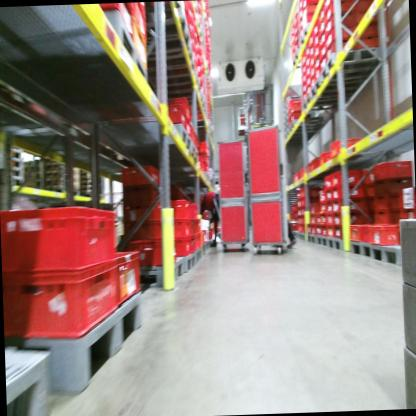pallet: (31, 290, 147, 398), (7, 344, 55, 416), (310, 64, 380, 98), (319, 45, 379, 81), (143, 15, 194, 57), (143, 256, 184, 292), (368, 241, 406, 272), (302, 91, 349, 116), (145, 1, 187, 26), (178, 249, 198, 278), (352, 239, 371, 264), (326, 232, 344, 253), (315, 231, 327, 248), (193, 247, 203, 263), (306, 232, 316, 246), (300, 231, 308, 243), (294, 231, 301, 241)
small_load_carrier: (2, 245, 122, 348), (1, 190, 119, 275), (112, 245, 144, 301), (130, 234, 179, 268), (97, 5, 136, 36), (367, 221, 406, 249), (151, 196, 191, 223), (121, 183, 162, 208), (118, 163, 161, 185), (369, 159, 412, 181), (350, 221, 391, 243), (329, 135, 362, 161), (326, 25, 358, 49), (324, 10, 357, 33), (133, 16, 148, 62), (333, 208, 368, 227), (324, 2, 352, 25), (386, 174, 415, 196), (355, 19, 388, 38), (326, 39, 359, 57), (167, 218, 192, 241), (164, 102, 185, 129), (331, 169, 360, 188), (357, 30, 391, 46), (356, 8, 387, 25), (333, 197, 362, 215), (332, 183, 363, 199), (356, 0, 386, 14), (176, 97, 192, 122), (398, 185, 414, 210), (175, 238, 194, 258), (135, 7, 146, 41), (372, 175, 387, 198), (152, 221, 169, 241), (374, 191, 389, 213), (372, 209, 390, 225), (399, 209, 415, 226), (289, 98, 304, 113), (303, 4, 318, 18), (334, 226, 349, 240), (308, 156, 319, 175), (303, 12, 319, 25), (198, 140, 210, 157), (199, 147, 211, 164), (192, 232, 204, 249), (325, 0, 354, 7), (185, 116, 194, 138), (318, 151, 330, 165), (289, 108, 303, 120), (191, 219, 202, 234), (324, 184, 333, 202), (325, 208, 334, 226), (189, 204, 198, 219), (327, 224, 335, 240), (324, 175, 333, 189), (325, 201, 334, 215), (318, 212, 326, 226), (319, 187, 326, 202), (318, 201, 326, 212), (301, 0, 318, 5), (322, 224, 328, 236), (316, 227, 322, 237)
